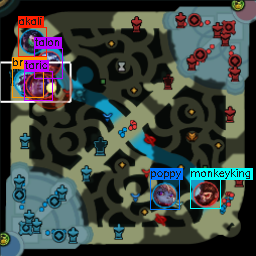akali: (20, 28, 44, 53)
braum: (14, 69, 38, 94)
monkeyking: (192, 180, 218, 206)
poppy: (152, 182, 177, 206)
talon: (35, 50, 61, 75)
taric: (25, 73, 48, 97)
